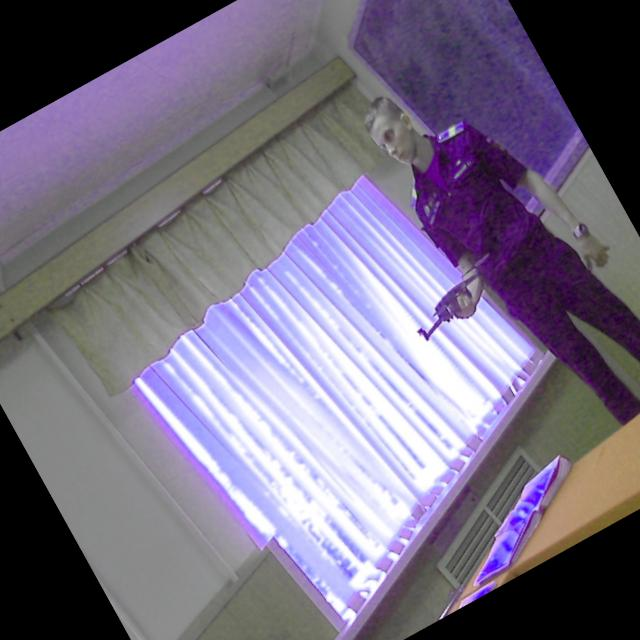drone: (386, 241, 516, 352)
